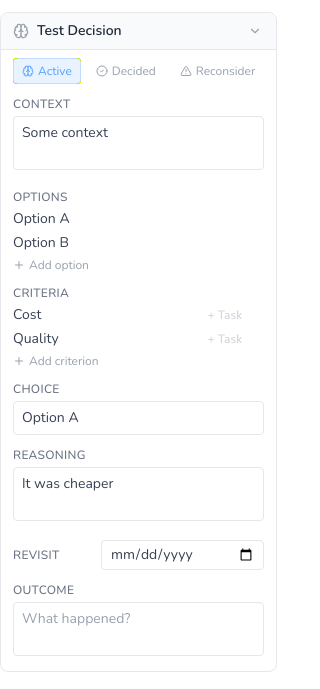
Test case: DecisionBlock › collapses when collapse button is clicked
Click the button titled "Collapse". click: (255, 31)
box: [246,22,264,40]
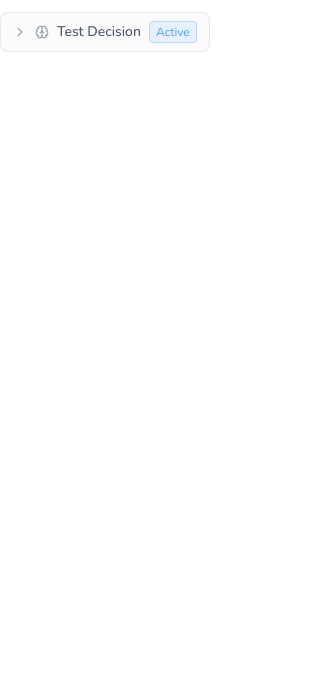
Expected: the text "Test Decision" is shown, [57,22,141,42]
Now the text "Context" is gone
